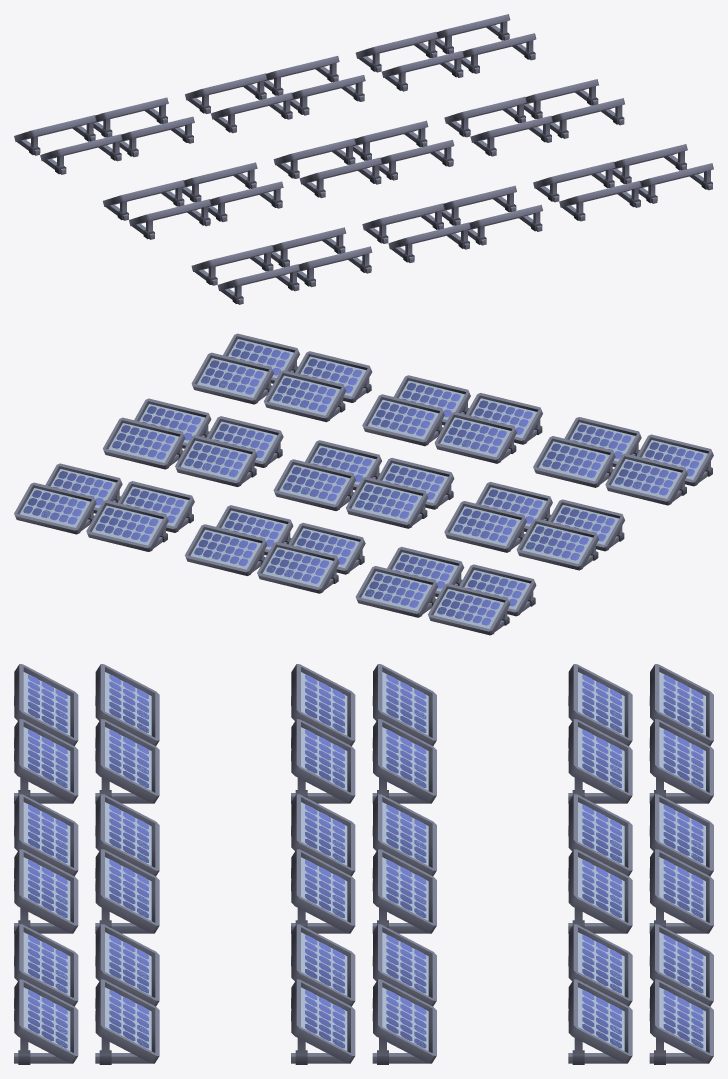
The model's file is solar_farm.glb.
3 renders of one model, top to bottom at view 1: azimuth 30°, elevation 25°; view 2: azimuth 150°, elevation 25°; view 3: azimuth 270°, elevation 25°, orthographic. The views are drawn at different scales.
Visible parts, largest first — view 1: solar-panel-landscape-group (×9); view 2: solar-panel-landscape-group (×9); view 3: solar-panel-landscape-group (×9).
Boxes of the visible parts, x1,y1,x2,y2 form: solar-panel-landscape-group (×9): (14, 14, 713, 304); solar-panel-landscape-group (×9): (14, 333, 713, 635); solar-panel-landscape-group (×9): (14, 664, 713, 1064).
Bounding box in the file's own units: 56 × 2.77 × 45.46.
Materials: 1 (1 with a texture image).
